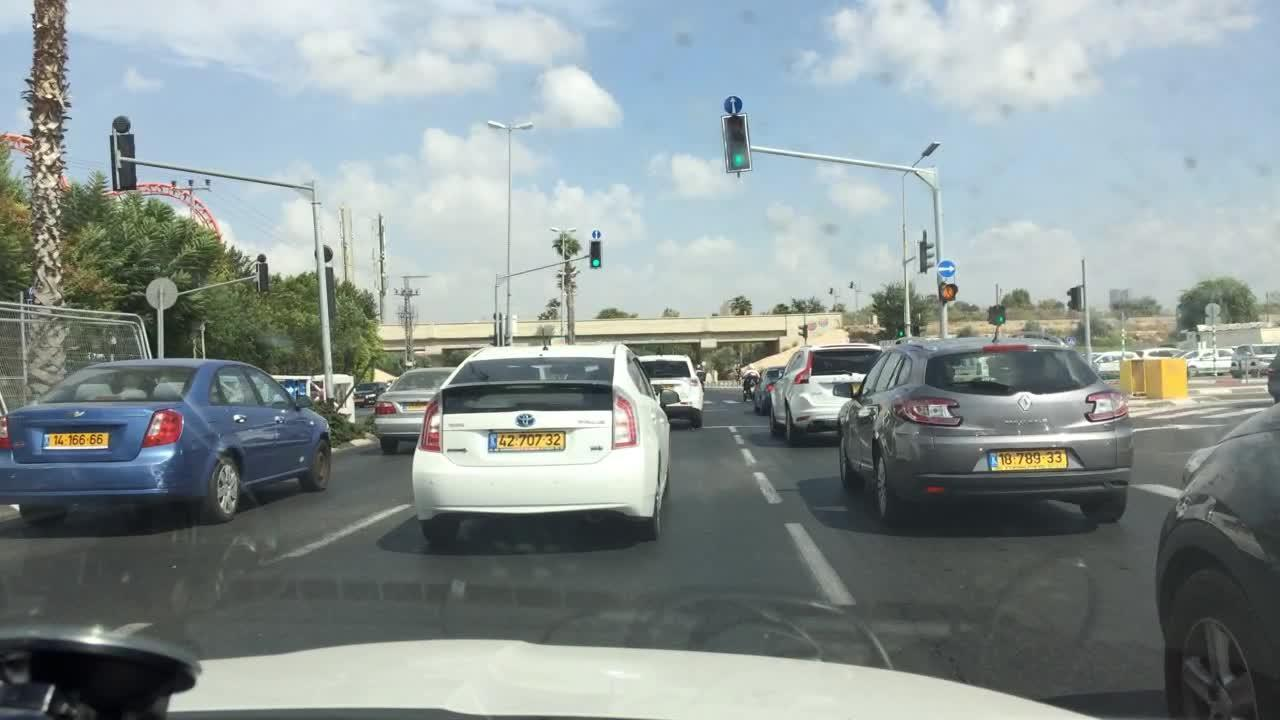Renault: (1009, 391, 1038, 415)
Toyota: (517, 414, 535, 427)
